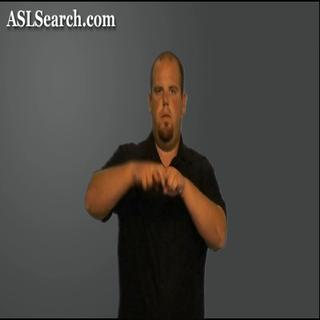chair: (127, 157, 192, 201)
